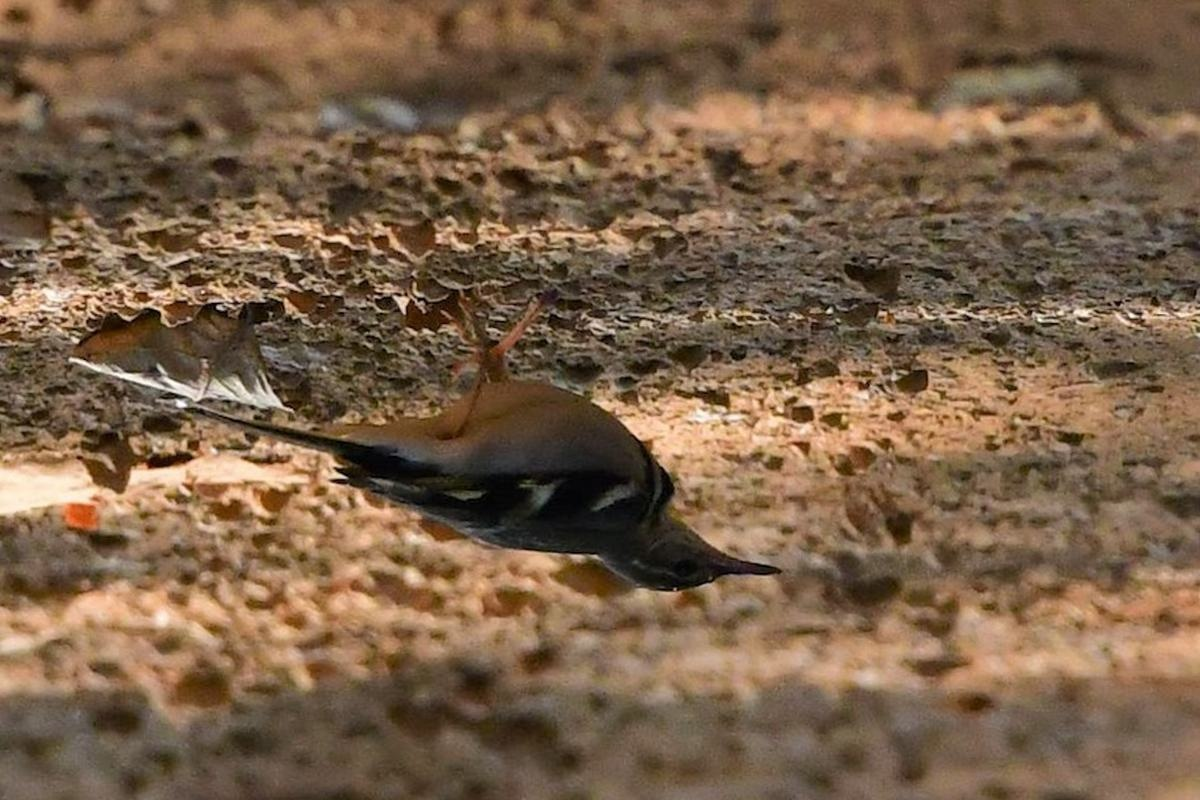wagtail: (120, 297, 786, 605)
